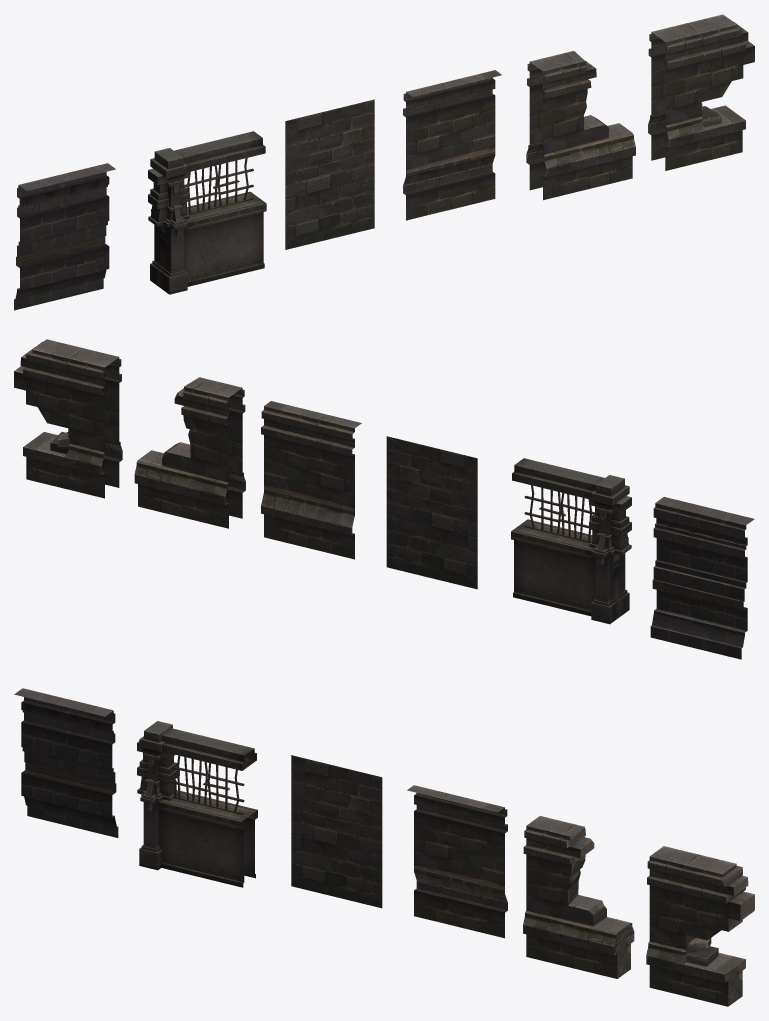
The model's file is 2_DXSD_ShiZhuanQiang_01.FBX.
The picture shows the model from 3 angles, top to bottom: view 1: azimuth 30°, elevation 25°; view 2: azimuth 150°, elevation 25°; view 3: azimuth 330°, elevation 25°; orthographic projection.
Visible parts, largest first — view 1: 2_DXSD_ShiZhuanQiang_05, 2_DXSD_ShiZhuanQiang_06, 2_DXSD_ShiZhuanQiang_02, 2_DXSD_ShiZhuanQiang_01, 2_DXSD_ShiZhuanQiang_04, 2_DXSD_ShiZhuanQiang_03; view 2: 2_DXSD_ShiZhuanQiang_05, 2_DXSD_ShiZhuanQiang_04, 2_DXSD_ShiZhuanQiang_06, 2_DXSD_ShiZhuanQiang_02, 2_DXSD_ShiZhuanQiang_01, 2_DXSD_ShiZhuanQiang_03; view 3: 2_DXSD_ShiZhuanQiang_05, 2_DXSD_ShiZhuanQiang_06, 2_DXSD_ShiZhuanQiang_01, 2_DXSD_ShiZhuanQiang_02, 2_DXSD_ShiZhuanQiang_04, 2_DXSD_ShiZhuanQiang_03.
Boxes of the visible parts, x1,y1,x2,y2 form: 2_DXSD_ShiZhuanQiang_05: (148, 131, 266, 294); 2_DXSD_ShiZhuanQiang_06: (648, 14, 754, 170); 2_DXSD_ShiZhuanQiang_02: (403, 70, 501, 220); 2_DXSD_ShiZhuanQiang_01: (285, 99, 374, 249); 2_DXSD_ShiZhuanQiang_04: (14, 163, 115, 310); 2_DXSD_ShiZhuanQiang_03: (526, 51, 635, 200); 2_DXSD_ShiZhuanQiang_05: (511, 458, 631, 624); 2_DXSD_ShiZhuanQiang_04: (650, 497, 754, 659); 2_DXSD_ShiZhuanQiang_06: (14, 339, 122, 498); 2_DXSD_ShiZhuanQiang_02: (261, 401, 361, 559); 2_DXSD_ShiZhuanQiang_01: (386, 436, 477, 589); 2_DXSD_ShiZhuanQiang_03: (134, 377, 245, 528); 2_DXSD_ShiZhuanQiang_05: (137, 721, 257, 887); 2_DXSD_ShiZhuanQiang_06: (646, 846, 754, 1006); 2_DXSD_ShiZhuanQiang_01: (291, 755, 382, 908); 2_DXSD_ShiZhuanQiang_02: (407, 785, 507, 938); 2_DXSD_ShiZhuanQiang_04: (14, 688, 118, 837); 2_DXSD_ShiZhuanQiang_03: (523, 816, 634, 978).
Size of the model in its own units: 2255 by 391 by 134.
